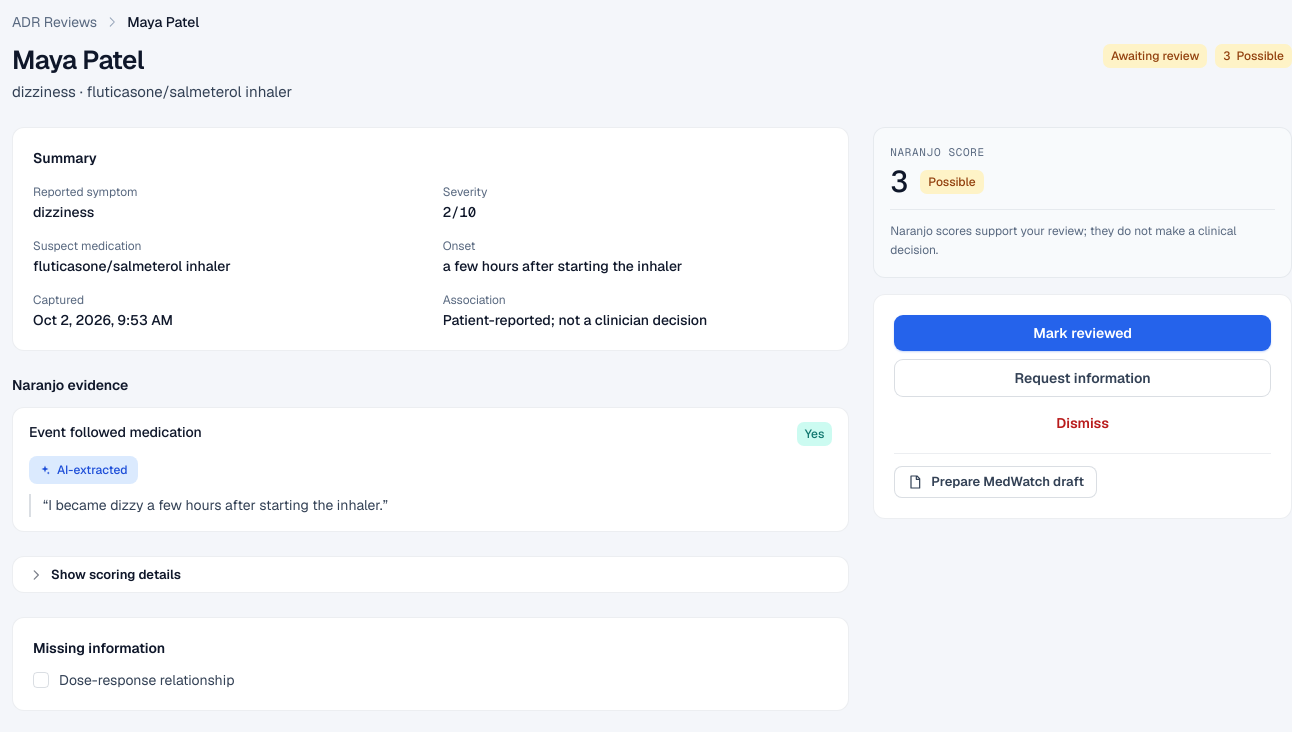
it: ADR case page › marks the case reviewed and reloads it
The image size is (1292, 732).
Click the button "Mark reviewed" at (1083, 332), box [894,314,1271,350]
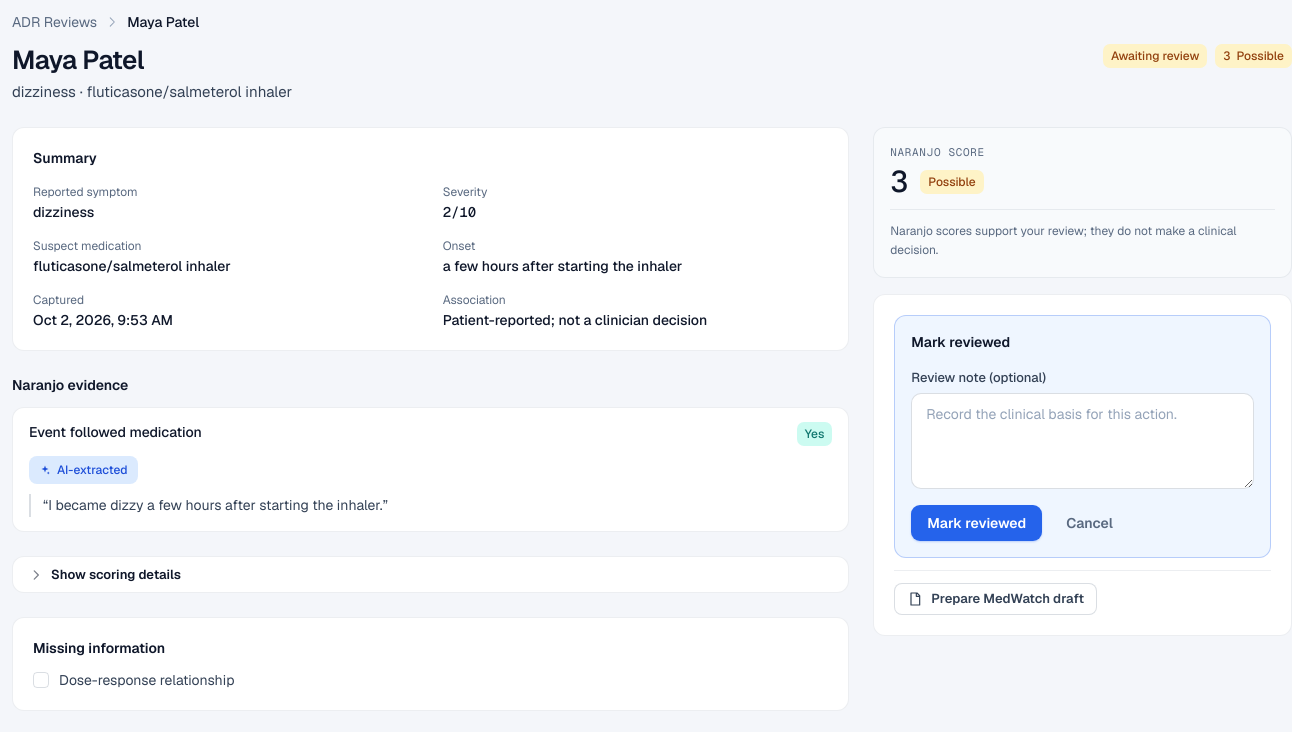
Type "Evidence reviewed with the medication history." into the text box labelled "Review note (optional)" at (1083, 441), box [911,393,1254,489]
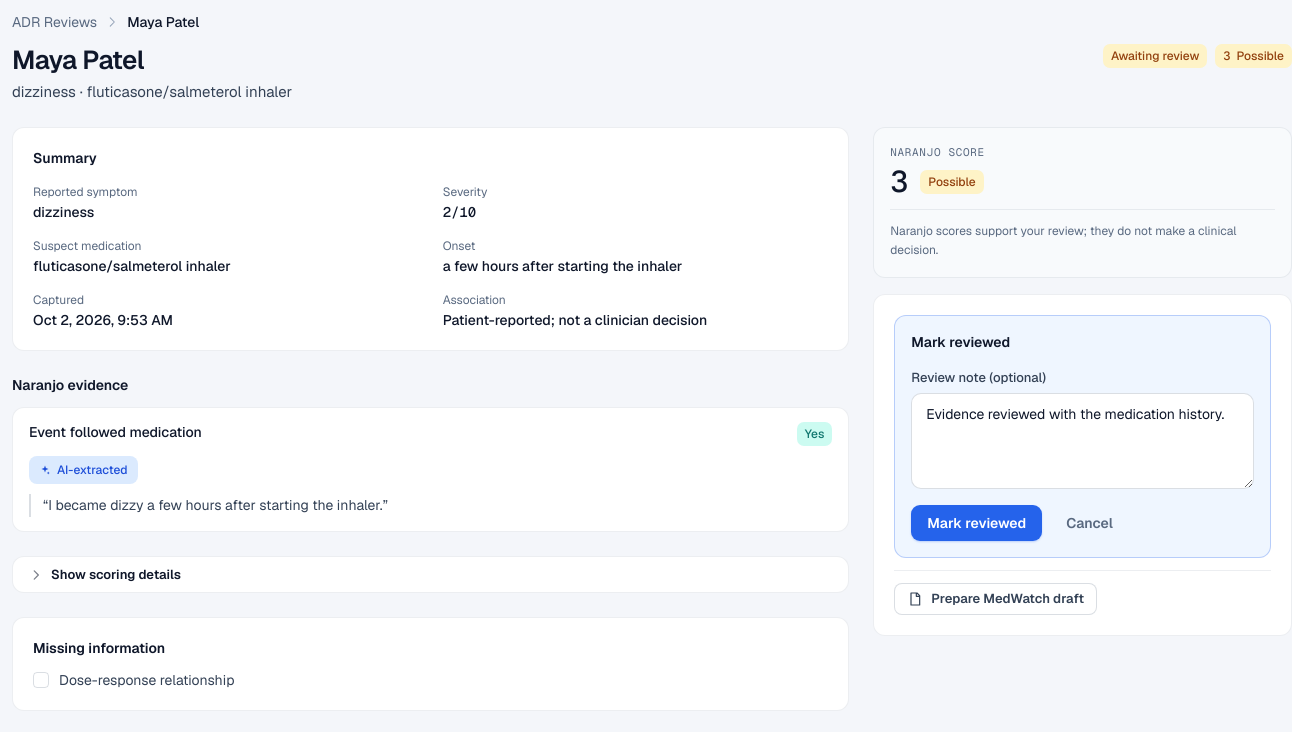
Click the button "Mark reviewed" at (977, 523), box [911,505,1042,541]
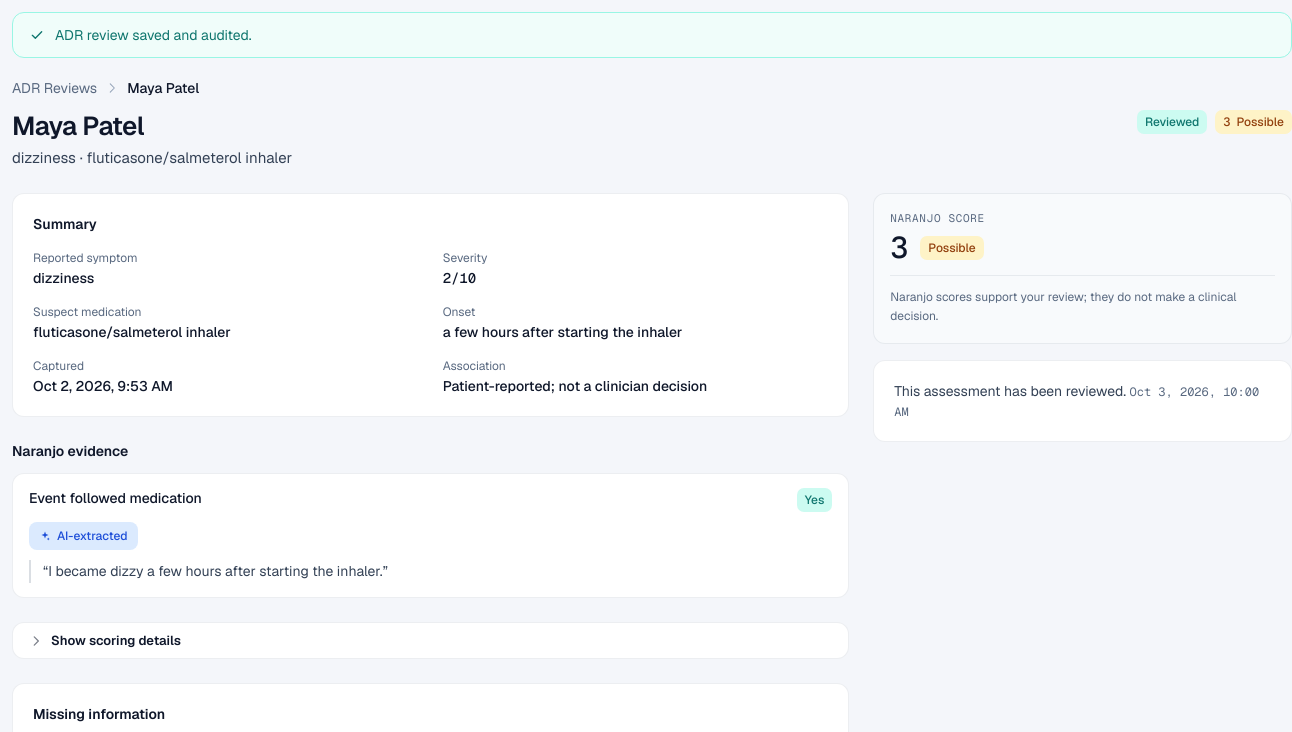
Now the text "ADR review saved and audited." is shown, box [12,12,1291,58]
Now the text "This assessment has been reviewed." is shown, box [894,382,1126,400]
Now the heading "Mark reviewed" is gone
